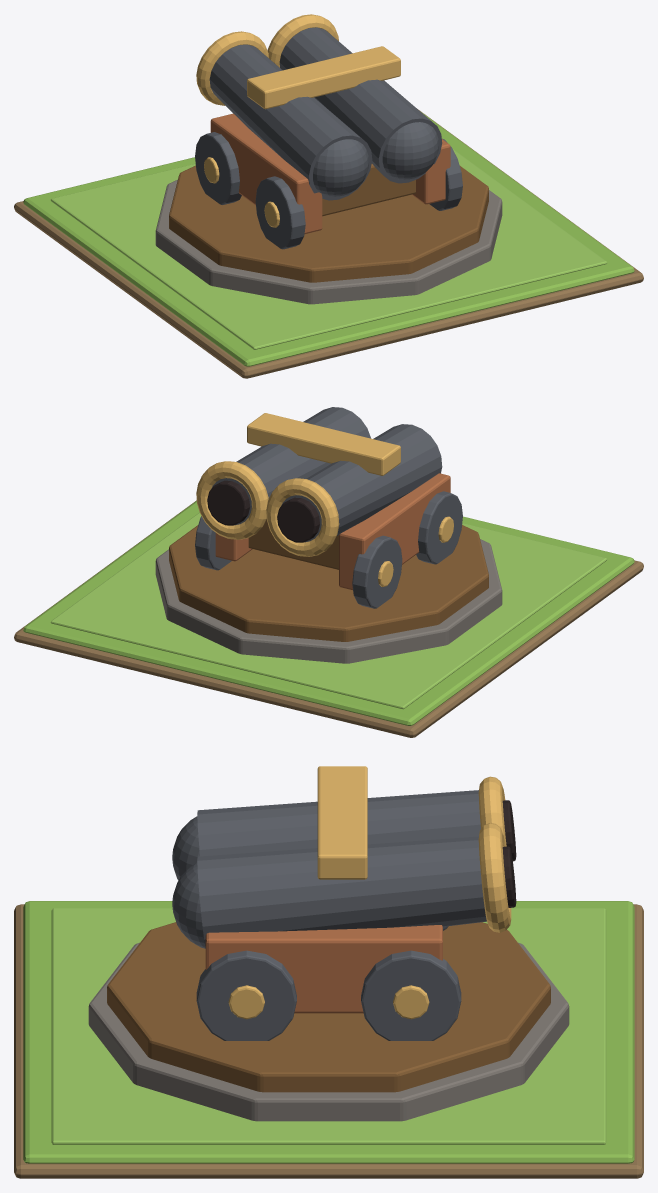
Rendered from double_cannon_lv2.glb.
3 renders of one model, top to bottom at view 1: azimuth 30°, elevation 25°; view 2: azimuth 150°, elevation 25°; view 3: azimuth 270°, elevation 25°, orthographic. The views are drawn at different scales.
Visible parts, largest first — view 1: Base_Inner, TurntableWood, Base_Grass, TurntableStone, Base_Dirt, TwinBarrel_-1, TwinBarrel_1, TwinYokeStrap, DC_Cheek_-1, TwinBreech_1, TwinBreech_-1, DC_Wheel_-1_-1 (+6 smaller); view 2: Base_Inner, TurntableWood, Base_Grass, TurntableStone, Base_Dirt, TwinBarrel_-1, TwinYokeStrap, DC_Cheek_-1, TwinBarrel_1, TwinMuzzleLip_-1, TwinMuzzleLip_1, DC_Wheel_-1_1 (+6 smaller); view 3: Base_Inner, TurntableWood, Base_Grass, TwinBarrel_1, TurntableStone, Base_Dirt, TwinBarrel_-1, DC_Cheek_1, DC_Wheel_1_1, DC_Wheel_1_-1, TwinYokeStrap, TwinMuzzleLip_1 (+6 smaller).
Part boxes in pixels (x1,y1,x2,y2): Base_Inner: (51,149,606,349); TurntableWood: (169,165,488,282); Base_Grass: (23,111,634,366); TurntableStone: (155,179,502,304); Base_Dirt: (14,109,643,378); TwinBarrel_-1: (209,44,372,200); TwinBarrel_1: (279,27,442,183); TwinYokeStrap: (247,46,400,109); DC_Cheek_-1: (210,113,322,233); TwinBreech_1: (382,122,438,179); TwinBreech_-1: (313,139,369,196); DC_Wheel_-1_-1: (255,176,305,249); Base_Inner: (50,512,607,709); TurntableWood: (169,525,488,641); Base_Grass: (23,501,634,725); TurntableStone: (155,539,502,663); Base_Dirt: (14,500,643,737); TwinBarrel_-1: (281,424,442,542); TwinYokeStrap: (247,413,400,475); DC_Cheek_-1: (339,473,450,589); TwinBarrel_1: (211,407,370,525); TwinMuzzleLip_-1: (266,478,339,556); TwinMuzzleLip_1: (196,461,268,539); DC_Wheel_-1_1: (352,535,402,608); Base_Inner: (51,908,606,1144); TurntableWood: (107,922,550,1092); Base_Grass: (23,901,634,1163); TwinBarrel_1: (197,836,486,947); TurntableStone: (88,942,569,1121); Base_Dirt: (14,904,643,1178); TwinBarrel_-1: (197,790,480,856); DC_Cheek_1: (205,925,442,1013); DC_Wheel_1_1: (361,950,461,1040); DC_Wheel_1_-1: (196,950,296,1040); TwinYokeStrap: (317,766,367,879); TwinMuzzleLip_1: (478,823,511,932).
Bounding box in the file's own units: 2.76 × 1.18 × 2.76.
